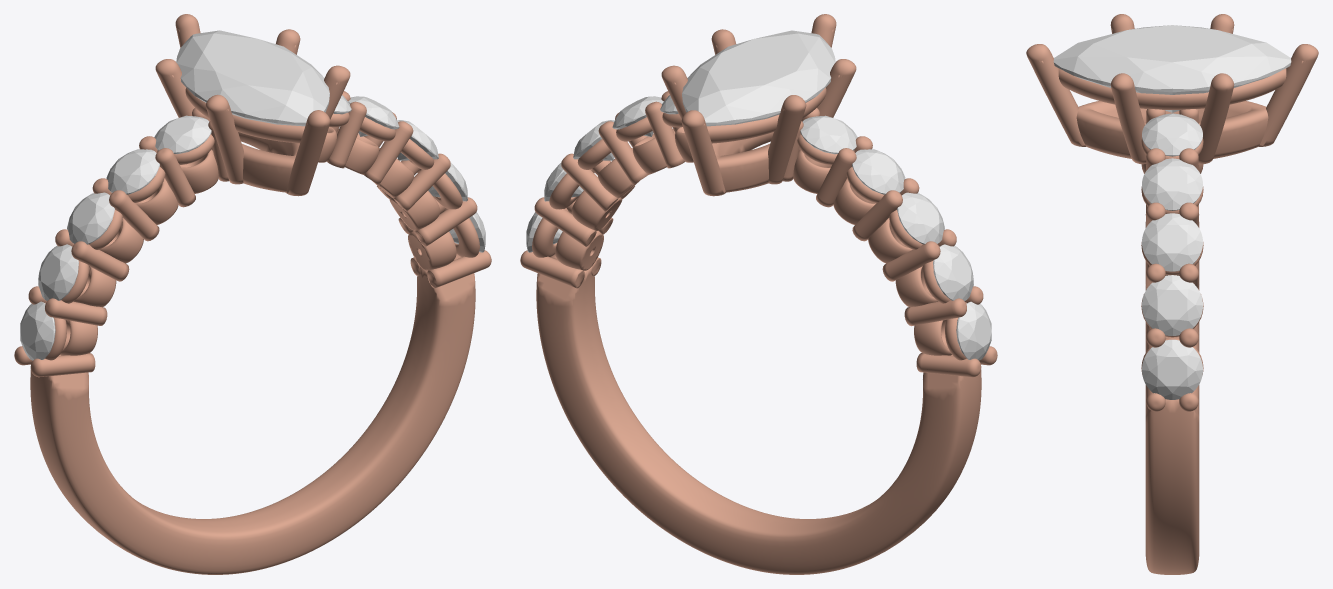
Rendered from diamond-marquise-rosegold-6prong-straightband-11stone.glb.
3 renders of one model, left to right at view 1: azimuth 30°, elevation 25°; view 2: azimuth 150°, elevation 25°; view 3: azimuth 270°, elevation 25°, orthographic.
Visible parts, largest first — view 1: metal.001, stone.001, side.012, side.011, side.013, side.010, side.014, side.018; view 2: metal.001, stone.001, side.012, side.011, side.013, side.010, side.014, side.018; view 3: metal.001, stone.001, side.016, side.015, side.017, side.018, side.019.
Boxes of the visible parts, x1,y1,x2,y2 form: metal.001: [14, 14, 491, 574]; stone.001: [176, 30, 329, 126]; side.012: [67, 192, 114, 244]; side.011: [38, 244, 78, 300]; side.013: [106, 149, 159, 194]; side.010: [20, 301, 55, 360]; side.014: [154, 115, 211, 154]; side.018: [348, 96, 399, 136]; metal.001: [520, 14, 997, 574]; stone.001: [682, 30, 835, 126]; side.012: [897, 192, 944, 244]; side.011: [933, 244, 973, 300]; side.013: [852, 149, 905, 194]; side.010: [956, 301, 991, 360]; side.014: [800, 115, 857, 154]; side.018: [612, 96, 663, 136]; metal.001: [1026, 14, 1318, 574]; stone.001: [1053, 25, 1291, 112]; side.016: [1142, 275, 1202, 335]; side.015: [1142, 339, 1202, 399]; side.017: [1142, 213, 1202, 271]; side.018: [1142, 158, 1202, 210]; side.019: [1142, 113, 1202, 156].
Size of the model in its own units: 21.88 by 22.94 by 11.96.
